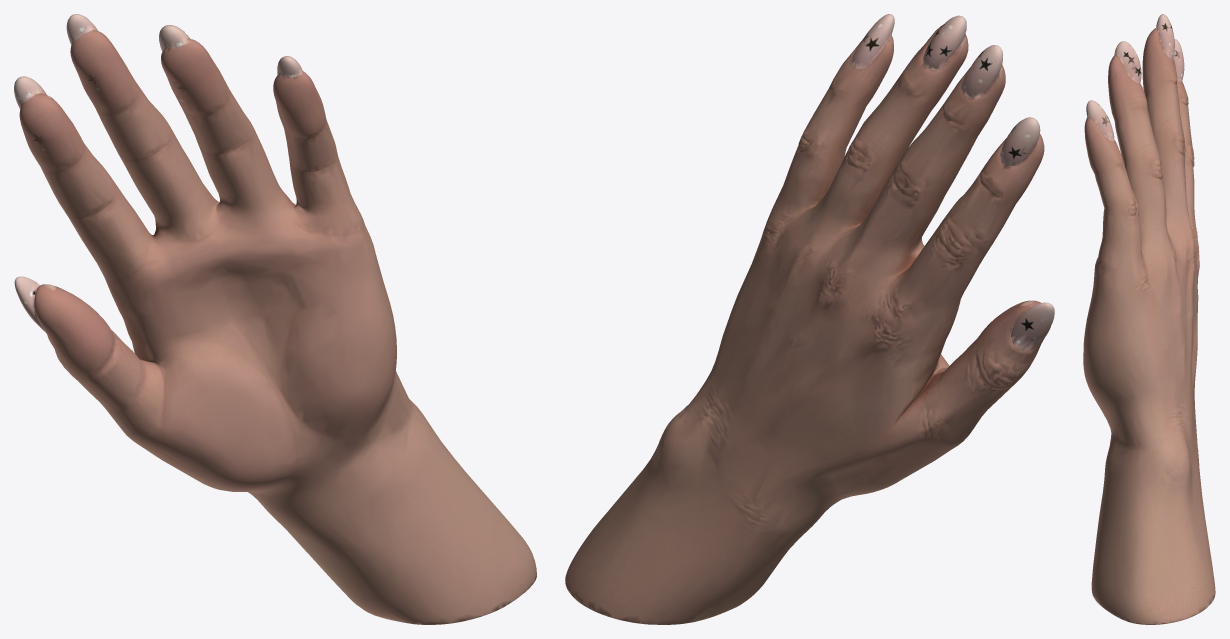
File: ongles.glb
The picture shows the model from 3 angles, left to right: view 1: azimuth 30°, elevation 25°; view 2: azimuth 150°, elevation 25°; view 3: azimuth 270°, elevation 25°; orthographic projection. The views are drawn at different scales.
Size of the model in its own units: 1.54 by 1.9 by 0.4979.
Materials: 1 (1 with a texture image).
